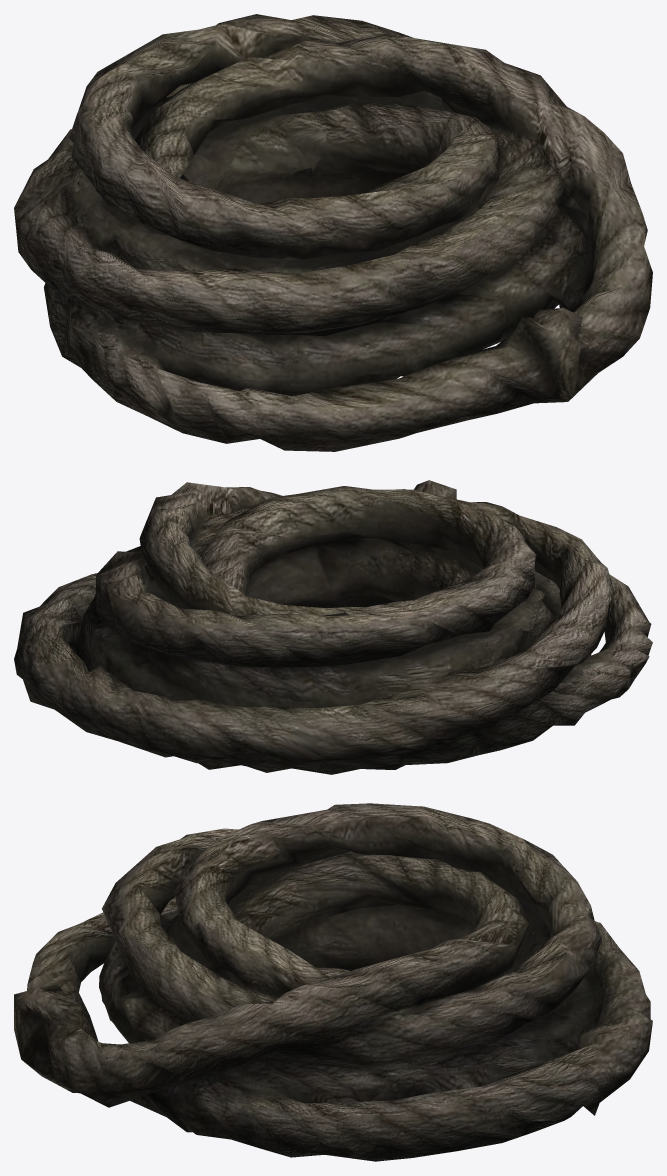
File: rope_coil_flat.glb
The picture shows the model from 3 angles, top to bottom: view 1: azimuth 30°, elevation 25°; view 2: azimuth 150°, elevation 25°; view 3: azimuth 270°, elevation 25°; orthographic projection. The views are drawn at different scales.
Visible parts, largest first — view 1: tripo_node_468e40b9-e8ab-42ec-b478-4af88cee0f4b; view 2: tripo_node_468e40b9-e8ab-42ec-b478-4af88cee0f4b; view 3: tripo_node_468e40b9-e8ab-42ec-b478-4af88cee0f4b.
Part boxes in pixels (x1,y1,x2,y2): tripo_node_468e40b9-e8ab-42ec-b478-4af88cee0f4b: (14, 14, 652, 451); tripo_node_468e40b9-e8ab-42ec-b478-4af88cee0f4b: (14, 480, 652, 774); tripo_node_468e40b9-e8ab-42ec-b478-4af88cee0f4b: (14, 803, 652, 1161).
Size of the model in its own units: 0.9384 by 0.2802 by 1.
Materials: 1 (1 with a texture image).
